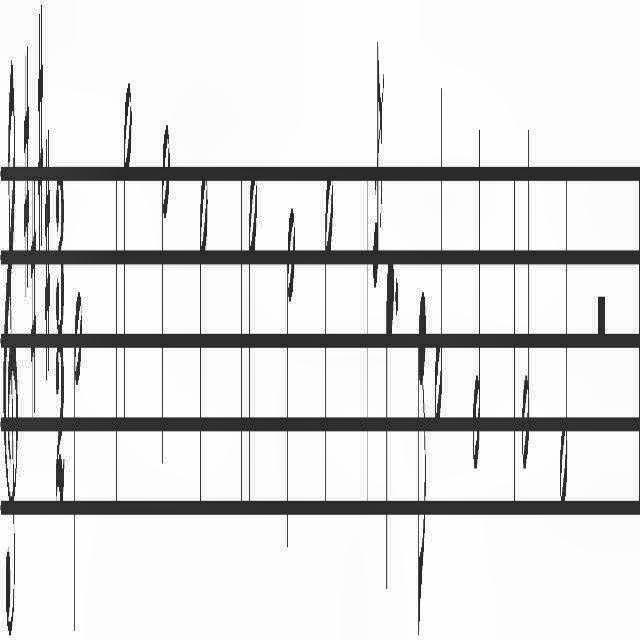Bass-clef: (3, 51, 19, 640)
Diez: (22, 51, 30, 292), (29, 171, 36, 417), (44, 130, 50, 380), (38, 4, 42, 270)
Eighth-note: (418, 282, 426, 636)
Half-note: (473, 101, 483, 486), (433, 70, 443, 446), (521, 116, 531, 492), (247, 152, 257, 520), (559, 176, 569, 528), (124, 74, 132, 450), (200, 152, 208, 524), (325, 162, 333, 534), (74, 278, 82, 640), (162, 115, 170, 472), (286, 195, 294, 552)
Quarter-note: (386, 247, 394, 618)
